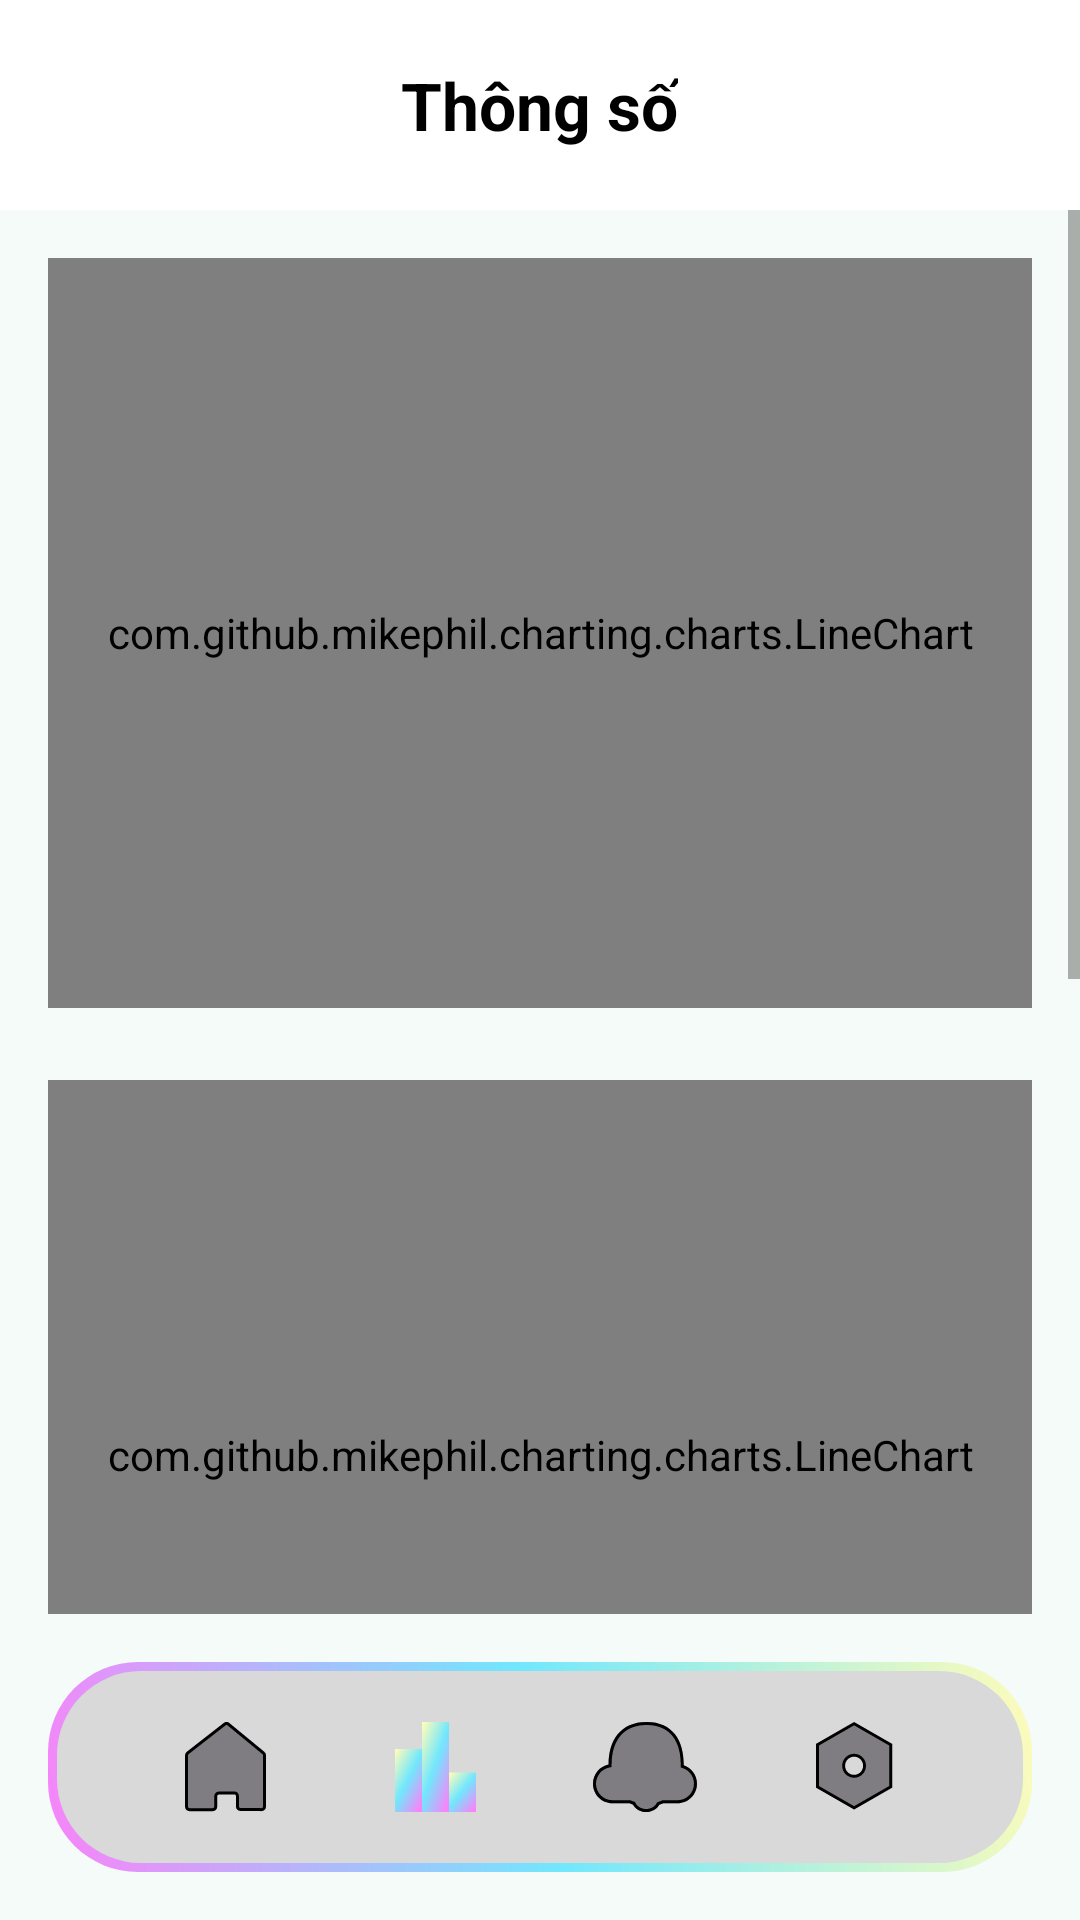

Point at icon controls on the screen. Image size 1080w x 1920h, points as (x=x, y=y).
home: (x=225, y=1767)
notifications: (x=645, y=1767)
settings: (x=854, y=1766)
stats: (x=435, y=1767)
